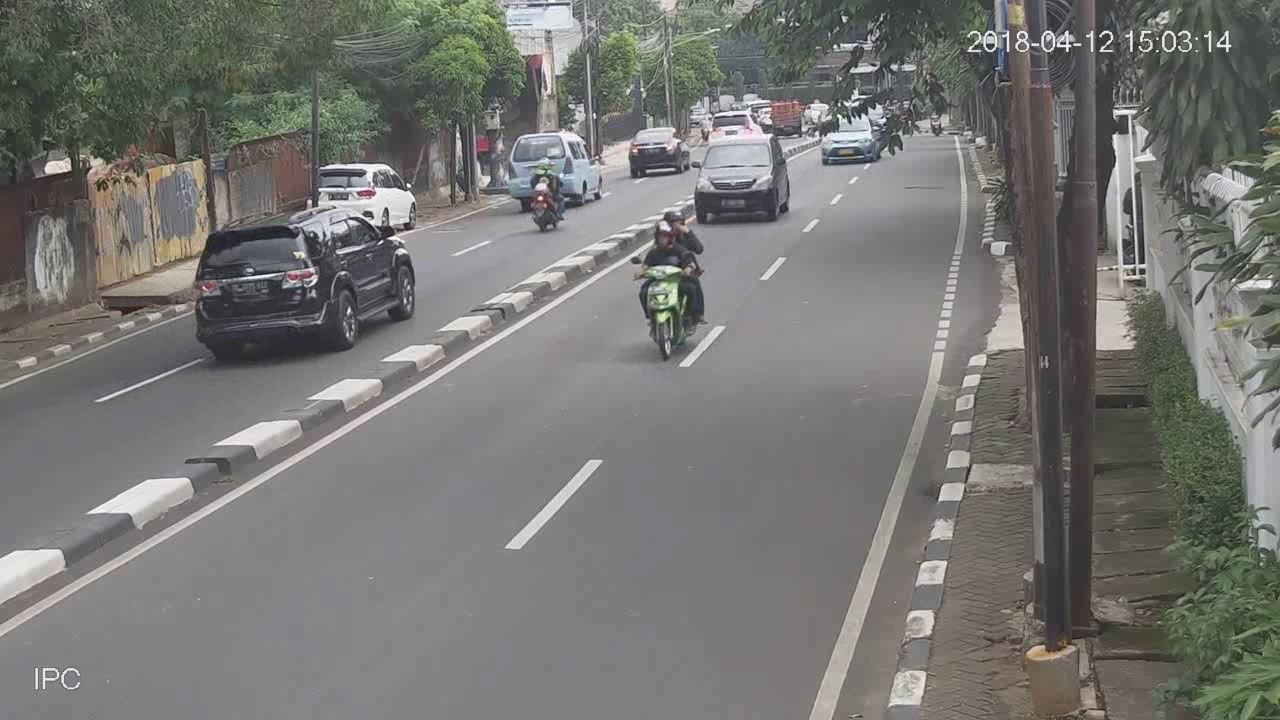car: (192, 210, 423, 361), (697, 131, 795, 222), (311, 157, 420, 232), (508, 127, 606, 205), (629, 124, 690, 175)
motorcycle: (631, 208, 711, 363), (528, 150, 566, 231)
